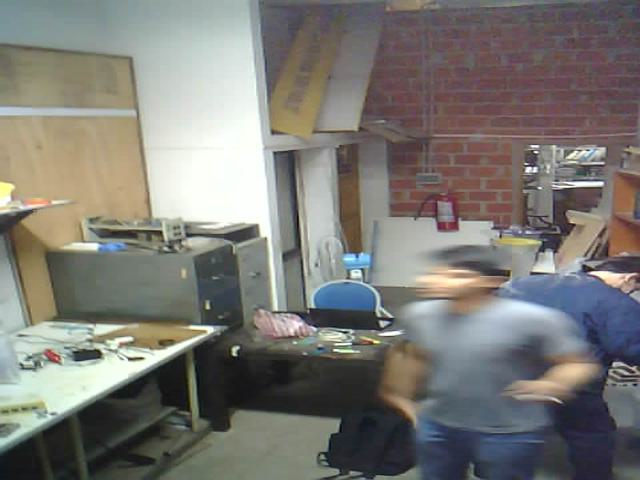person: (367, 217, 576, 480), (489, 243, 640, 480)
